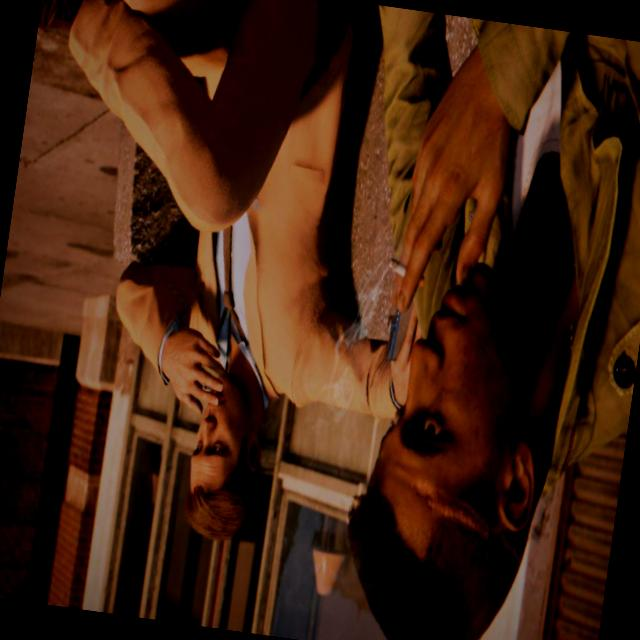smoke: (369, 248, 434, 305)
